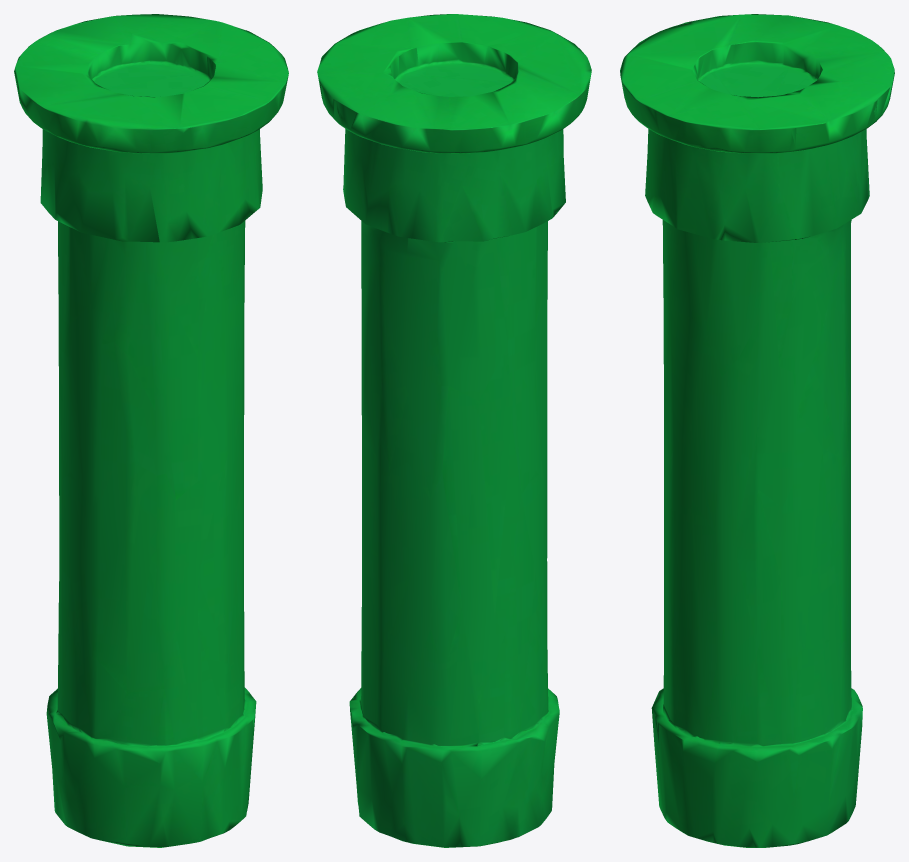
The model's file is pipe.glb.
3 renders of one model, left to right at view 1: azimuth 30°, elevation 25°; view 2: azimuth 150°, elevation 25°; view 3: azimuth 270°, elevation 25°, orthographic.
Bounding box in the file's own units: 0.6329 × 1.9 × 0.633.
Materials: 1 (1 with a texture image).
